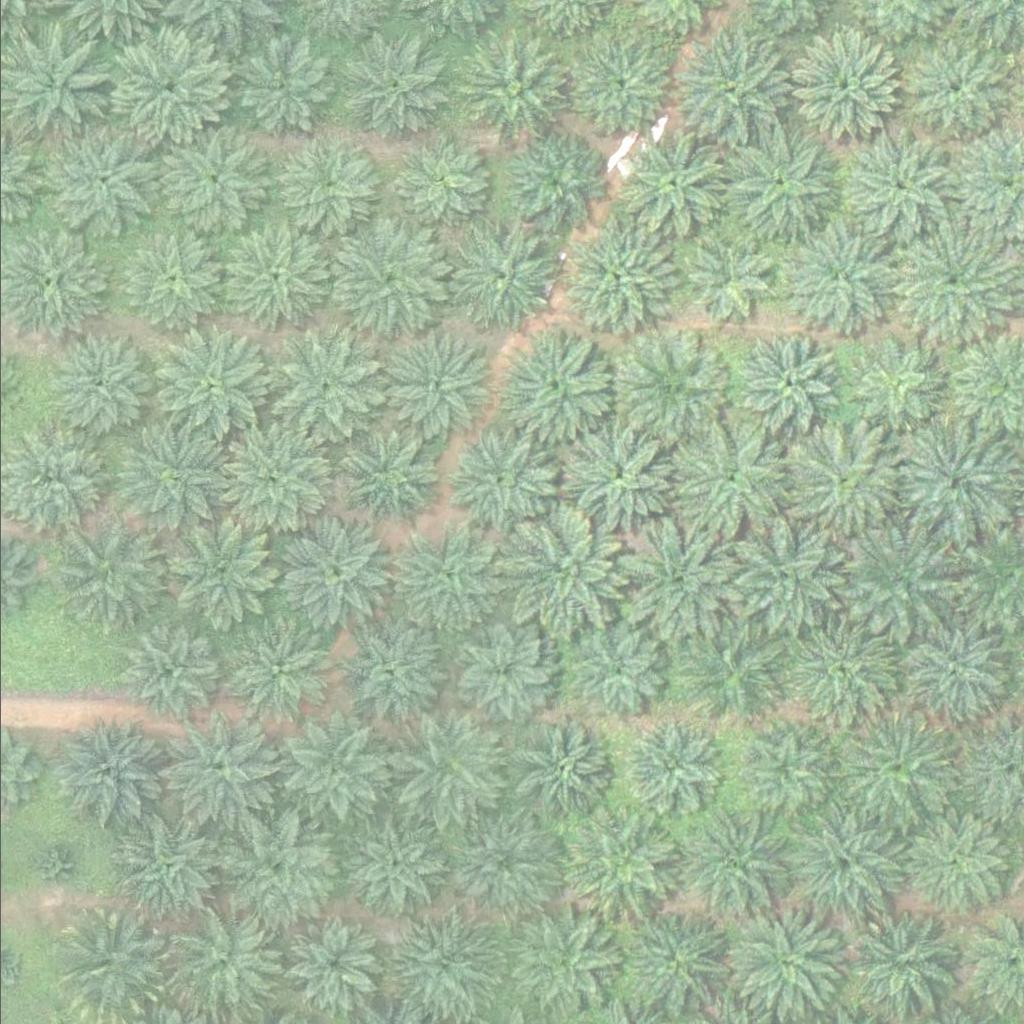Kelapa_Sawit: (845, 524, 959, 637), (679, 809, 793, 922), (503, 907, 617, 1020), (383, 910, 497, 1023), (153, 330, 267, 443), (898, 423, 1011, 536), (784, 32, 897, 145), (839, 125, 952, 238), (725, 128, 838, 241), (620, 129, 733, 242), (560, 223, 673, 336), (501, 333, 614, 446), (785, 424, 898, 537), (726, 519, 839, 632), (620, 521, 733, 634), (505, 515, 618, 628), (847, 713, 960, 826), (787, 810, 900, 923), (726, 904, 839, 1017), (617, 906, 730, 1019), (274, 714, 387, 827), (161, 714, 274, 827), (46, 717, 159, 830), (225, 612, 338, 725), (214, 428, 327, 541), (119, 422, 232, 535), (379, 329, 492, 442), (263, 333, 376, 446), (444, 220, 557, 333), (330, 225, 443, 338), (111, 32, 224, 145), (894, 612, 1008, 724), (458, 30, 572, 142), (786, 620, 900, 732), (554, 810, 668, 922), (215, 226, 329, 338), (334, 29, 448, 141), (57, 908, 170, 1020), (896, 226, 1009, 338), (895, 32, 1008, 144), (671, 30, 784, 142), (561, 28, 674, 140), (778, 220, 891, 332), (615, 332, 728, 444), (673, 426, 786, 538), (567, 424, 680, 536), (672, 617, 785, 729), (446, 806, 559, 918), (846, 907, 959, 1019), (167, 906, 280, 1018), (221, 806, 334, 918), (114, 810, 227, 922), (392, 709, 505, 821), (388, 521, 501, 633), (277, 518, 390, 630), (165, 523, 278, 635), (58, 522, 171, 634), (443, 428, 556, 540), (153, 127, 266, 239), (43, 131, 156, 243), (904, 814, 1005, 914), (505, 131, 606, 231), (672, 231, 773, 331), (850, 335, 951, 435), (739, 331, 840, 431), (567, 621, 668, 721), (448, 623, 549, 723), (506, 723, 607, 823), (282, 915, 383, 1015), (341, 817, 442, 917), (344, 623, 445, 723), (117, 624, 218, 724), (338, 433, 439, 533), (620, 718, 720, 818), (50, 338, 150, 438), (119, 231, 219, 331), (387, 132, 487, 232), (273, 137, 373, 237), (229, 40, 329, 140), (735, 724, 823, 812), (29, 844, 80, 894)
